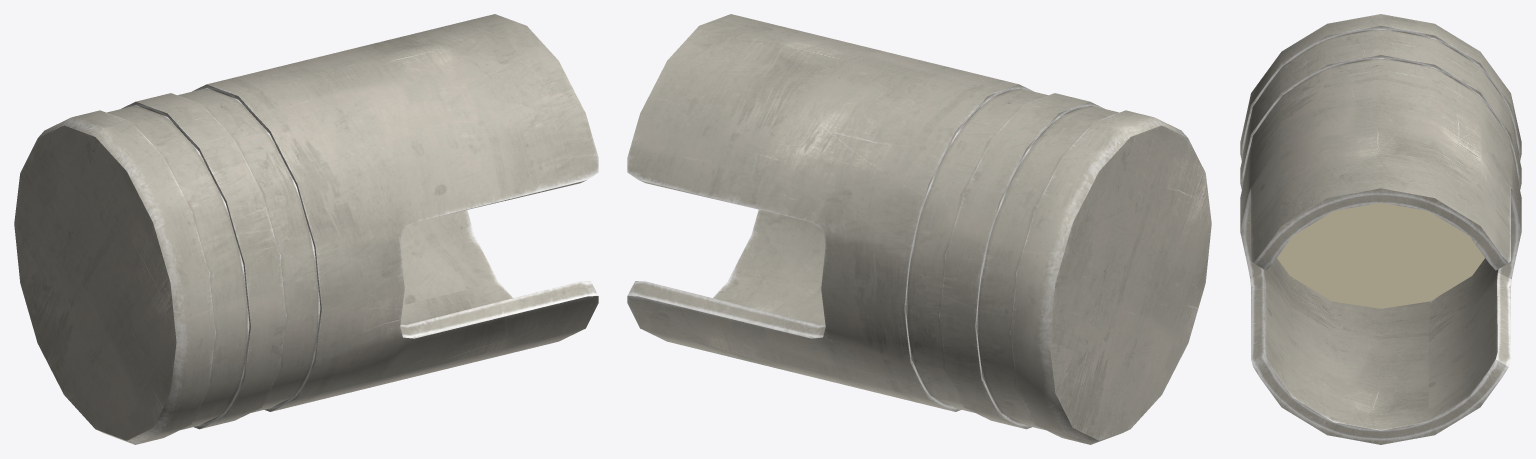
Rendered from guard_3_c_d.glb.
3 renders of one model, left to right at view 1: azimuth 30°, elevation 25°; view 2: azimuth 150°, elevation 25°; view 3: azimuth 270°, elevation 25°, orthographic. The views are drawn at different scales.
Parts seen in each view (by area): view 1: guard_3_c_d_lod0; view 2: guard_3_c_d_lod0; view 3: guard_3_c_d_lod0.
Boxes of the visible parts, bbox=[...] form: guard_3_c_d_lod0: bbox=[14, 14, 598, 444]; guard_3_c_d_lod0: bbox=[627, 14, 1211, 444]; guard_3_c_d_lod0: bbox=[1240, 14, 1521, 444].
Size of what is drawn, in the model's own units: 0.0462 by 0.0311 by 0.0309.
Materials: 1 (1 with a texture image).
